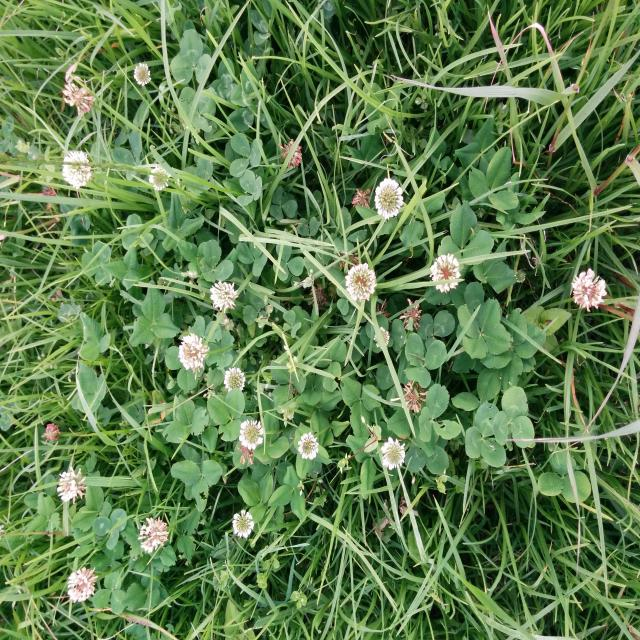Four Leaf Clover: (458, 297, 513, 359)
